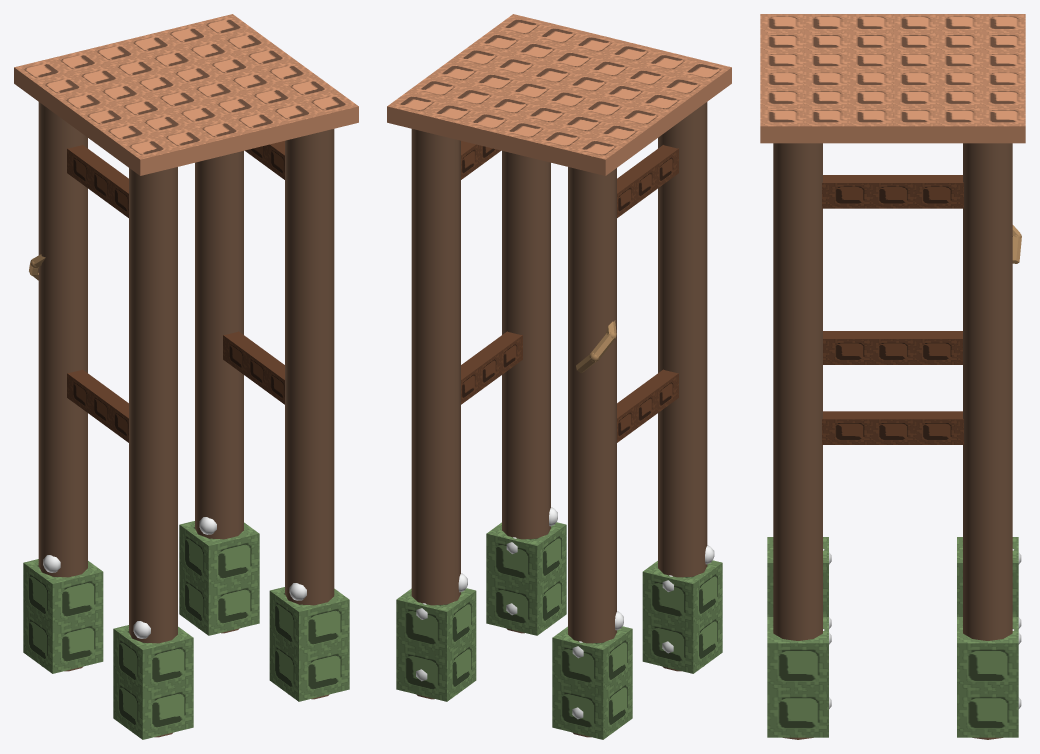
The model's file is DockPilings.glb.
3 renders of one model, left to right at view 1: azimuth 30°, elevation 25°; view 2: azimuth 150°, elevation 25°; view 3: azimuth 270°, elevation 25°, orthographic. The views are drawn at different scales.
Visible parts, largest first — view 1: DockPilings; view 2: DockPilings; view 3: DockPilings.
Part boxes in pixels (left/top/right/bottom): DockPilings: left=14, top=14, right=358, bottom=739; DockPilings: left=387, top=14, right=731, bottom=739; DockPilings: left=760, top=14, right=1025, bottom=739.
Bounding box in the file's own units: 5.6 × 14.4 × 5.6.
Materials: 1 (1 with a texture image).
